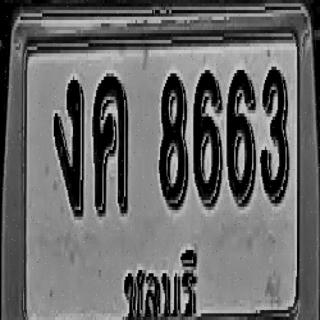A04: (93, 74, 129, 216)
A07: (53, 77, 84, 217)
N03: (260, 66, 288, 204)
N06: (193, 70, 221, 207), (227, 68, 255, 205)
N08: (159, 72, 188, 208)
P13: (122, 247, 197, 320)
